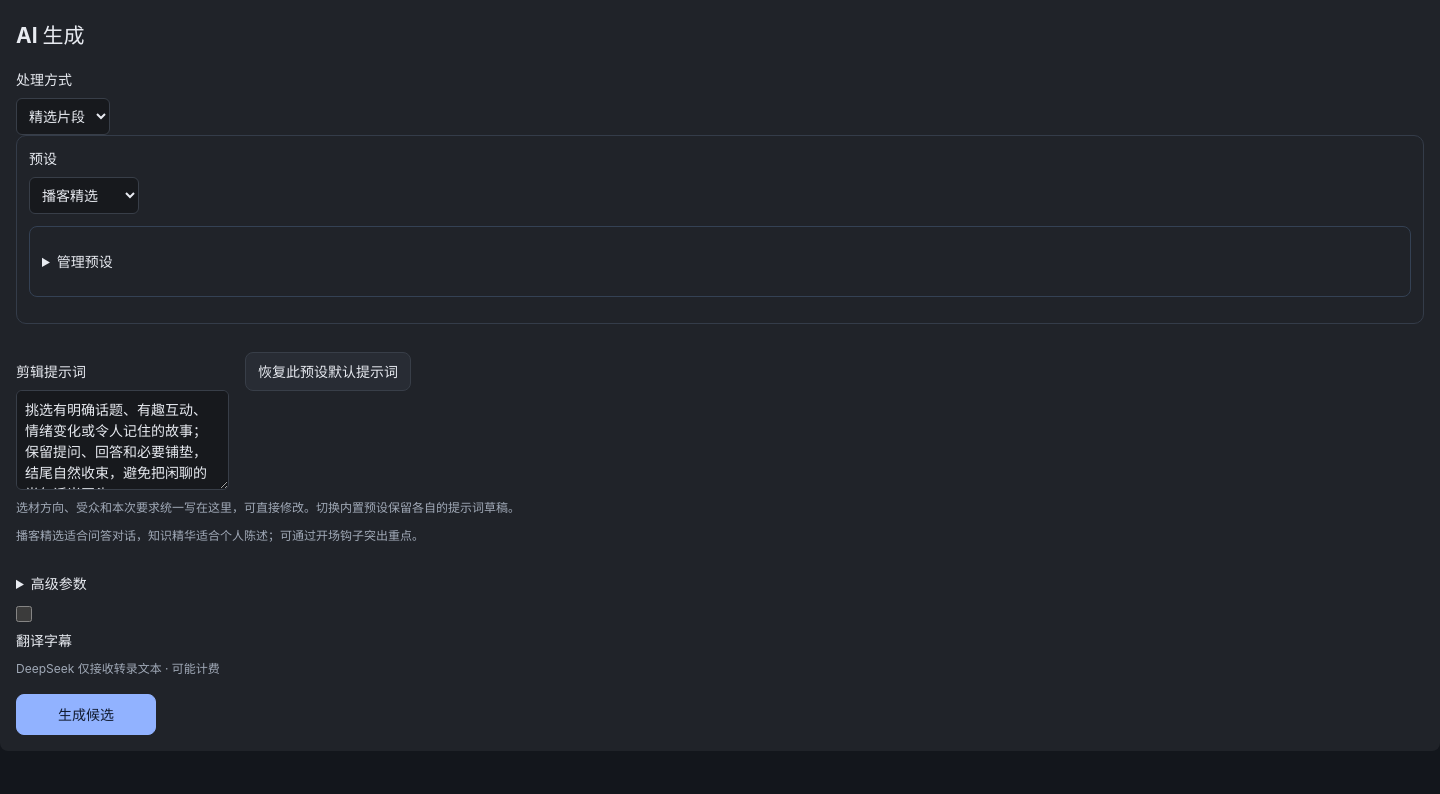
Test: 应用完整工作流程填入全部参数，切回内置预设保留其原草稿
Expected: the element "应用内容" is not shown
Select "双语访谈" in the dropdown labelled "预设" at (84, 196), box left=29, top=177, right=139, bottom=214
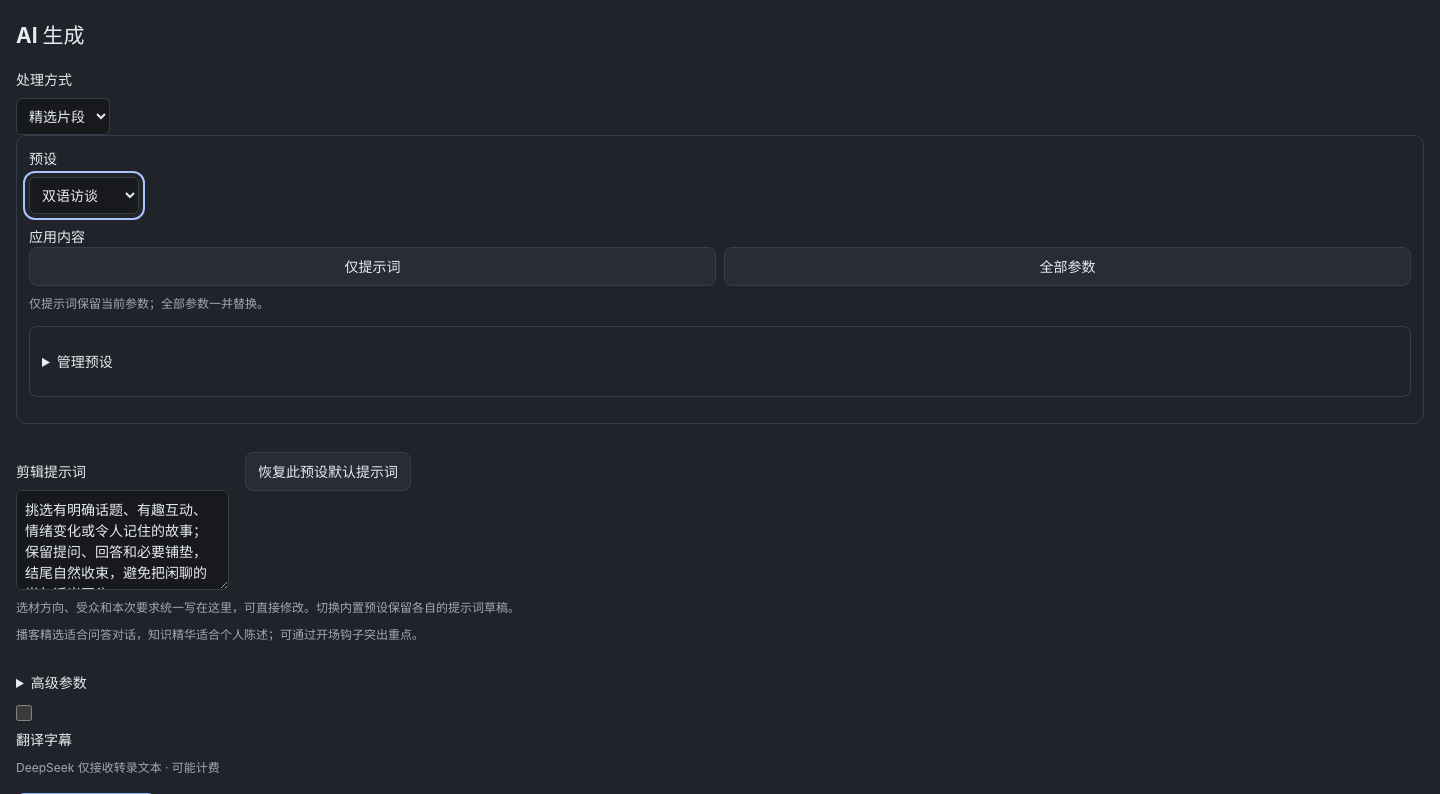
Expected: the text box labelled "剪辑提示词" holds "挑选有明确话题、有趣互动、情绪变化或令人记住的故事；保留提问、回答和必要铺垫，结尾自然收束，避免把闲聊的半句话当开头。", left=16, top=490, right=229, bottom=590
Expected: the element named "数量" holds "3", left=31, top=674, right=87, bottom=691
Click the button "全部参数" at (1068, 267), box left=724, top=247, right=1411, bottom=286
(page scrolled)
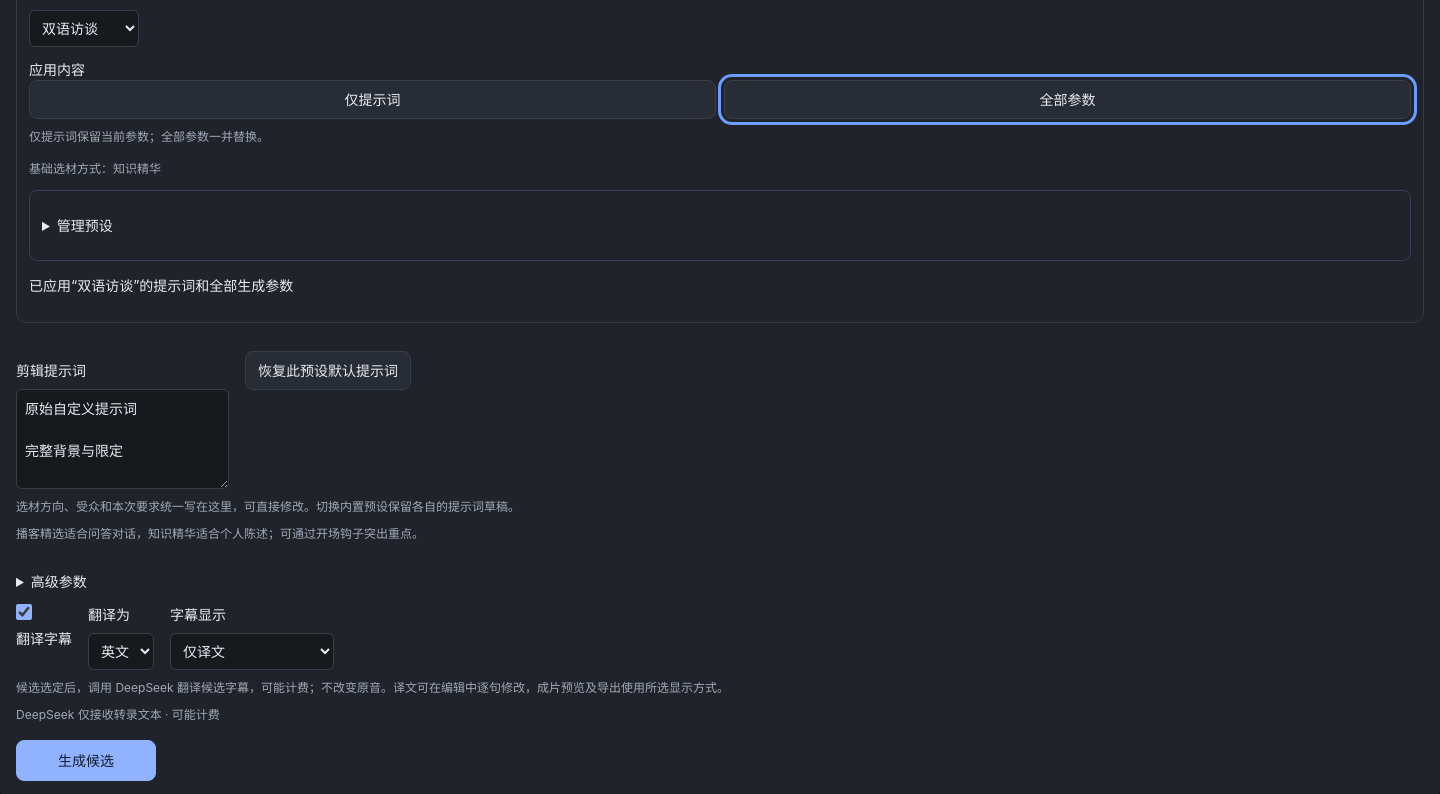
Expected: the element named "数量" holds "2", left=31, top=573, right=87, bottom=590
Now the dropdown labelled "翻译为" shows "英文", box left=88, top=633, right=154, bottom=670
Now the dropdown labelled "字幕显示" shows "仅译文", box left=170, top=633, right=334, bottom=670
Click the button "生成候选" at (86, 761), box left=16, top=740, right=156, bottom=782
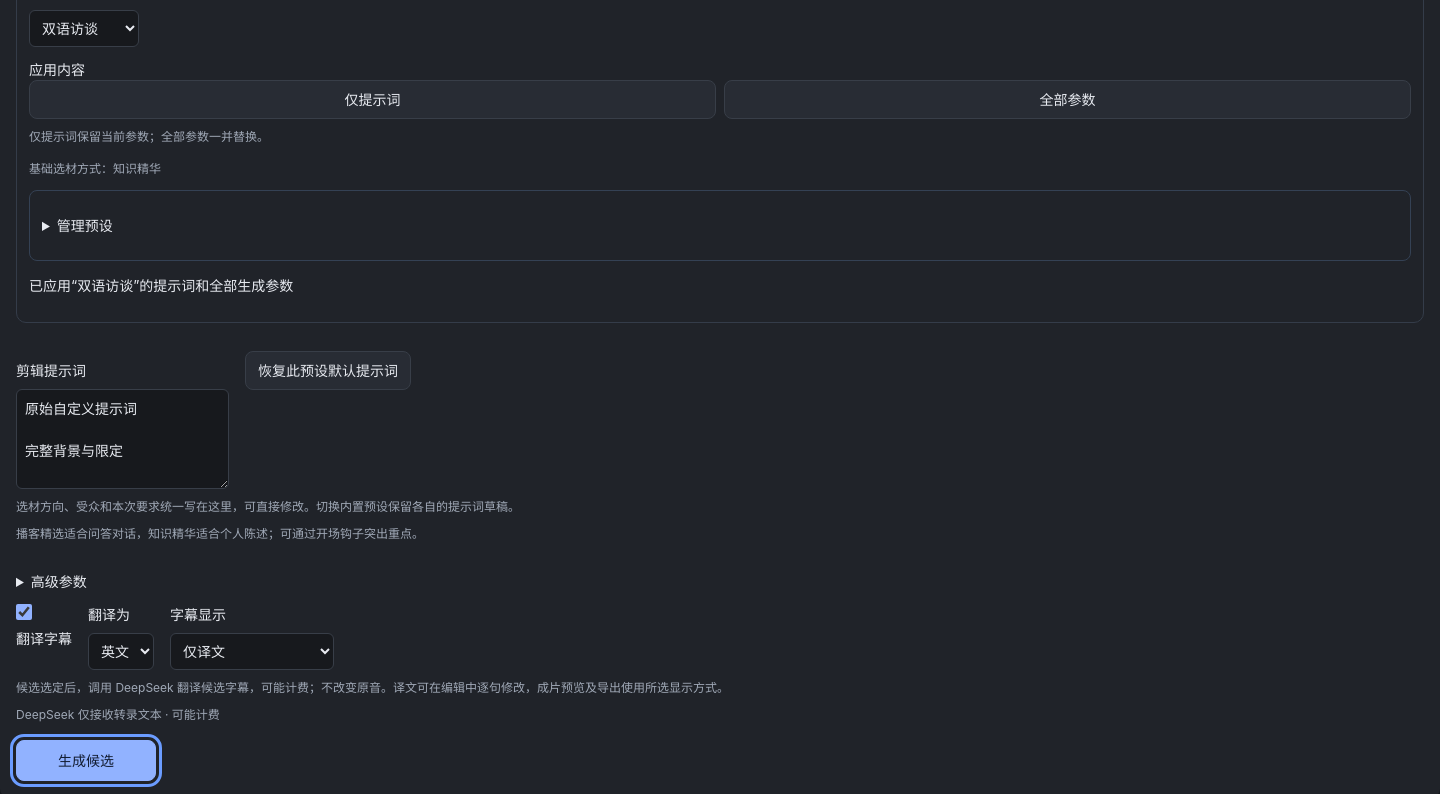
Replace the text in the text box labelled "剪辑提示词" with "仅改本次草稿" at (122, 439), box left=16, top=389, right=229, bottom=489
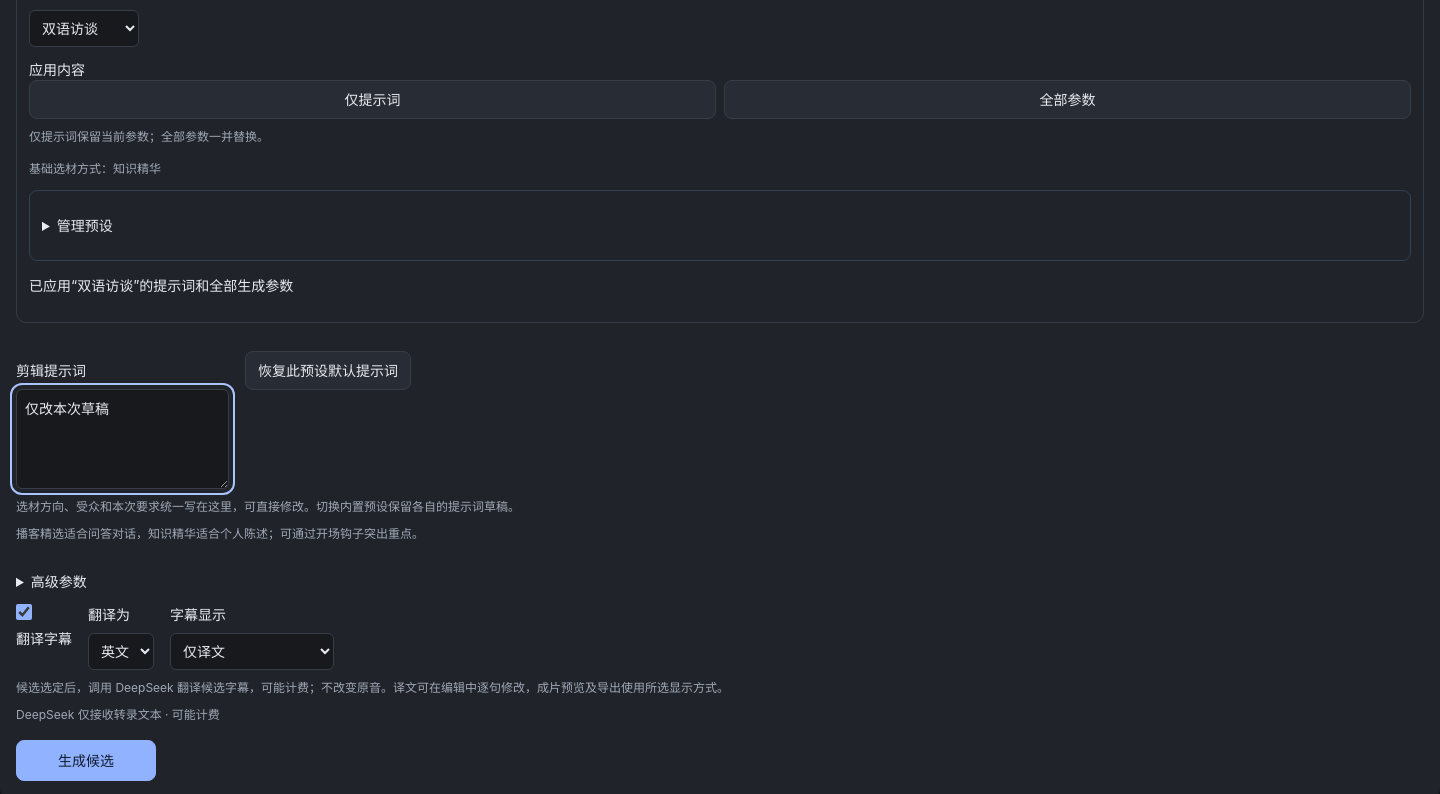
Select "知识精华" in the dropdown labelled "预设" at (84, 29), box left=29, top=10, right=139, bottom=47
(page scrolled)
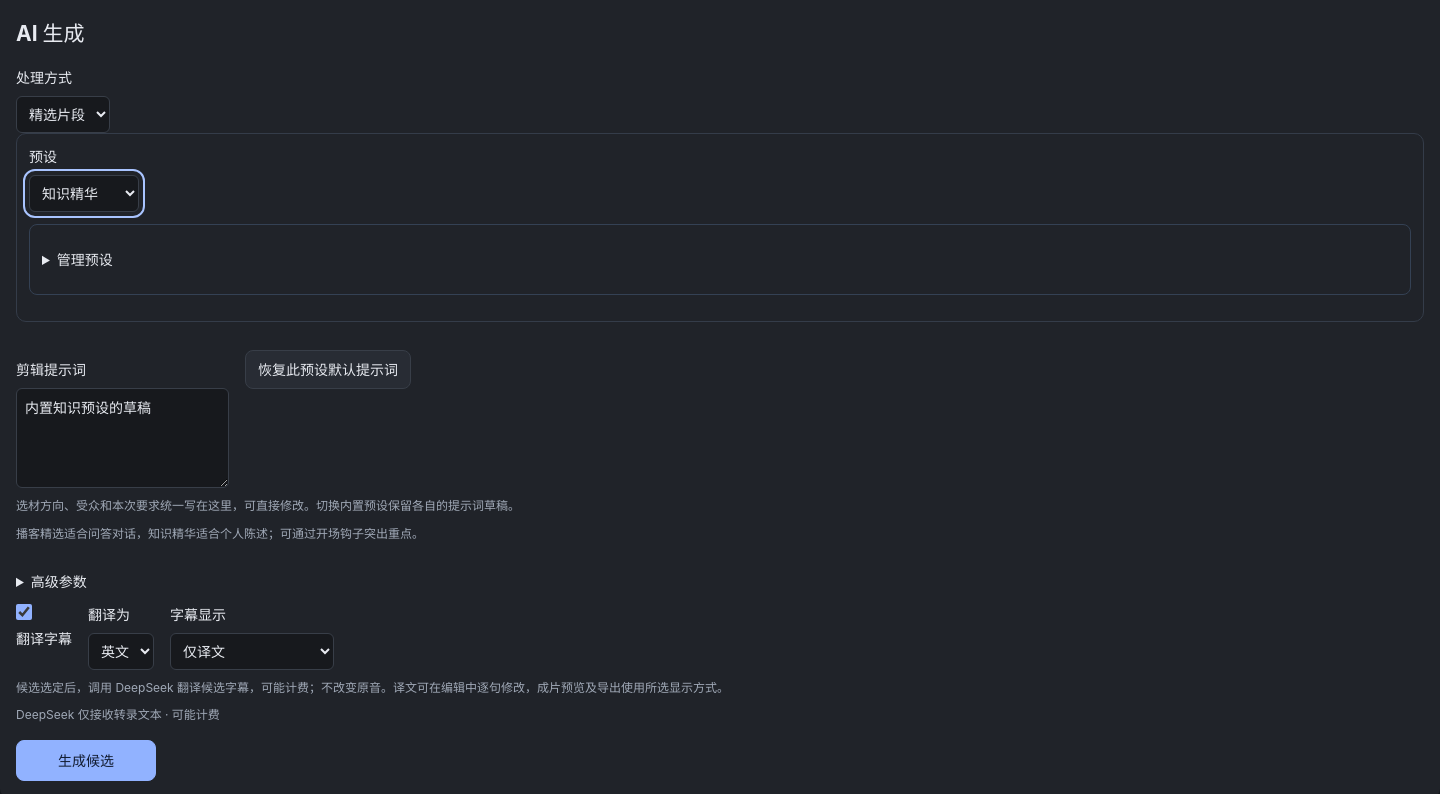
Now the text box labelled "剪辑提示词" holds "内置知识预设的草稿", box left=16, top=388, right=229, bottom=488
Now the text "应用内容" is gone
